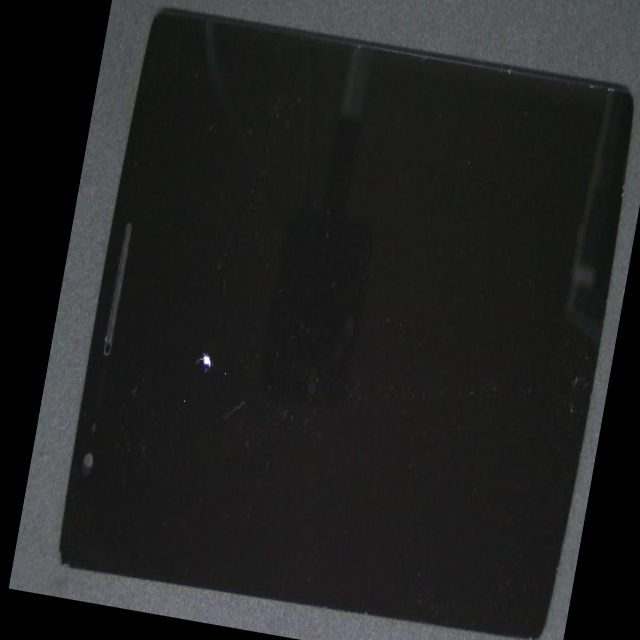stain: (75, 93, 307, 611)
